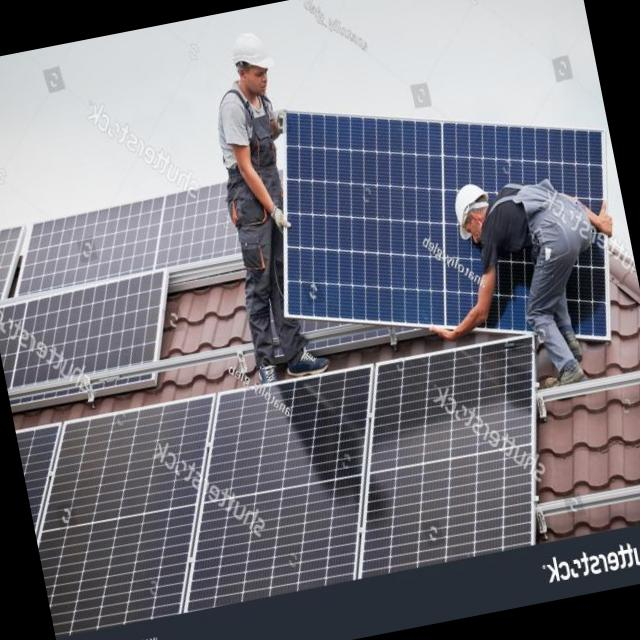no faulty: (182, 470, 376, 607), (366, 336, 546, 474), (352, 451, 548, 576), (42, 396, 223, 528), (35, 502, 208, 640), (199, 372, 381, 501), (290, 218, 440, 326), (284, 116, 443, 217), (18, 281, 163, 386)
